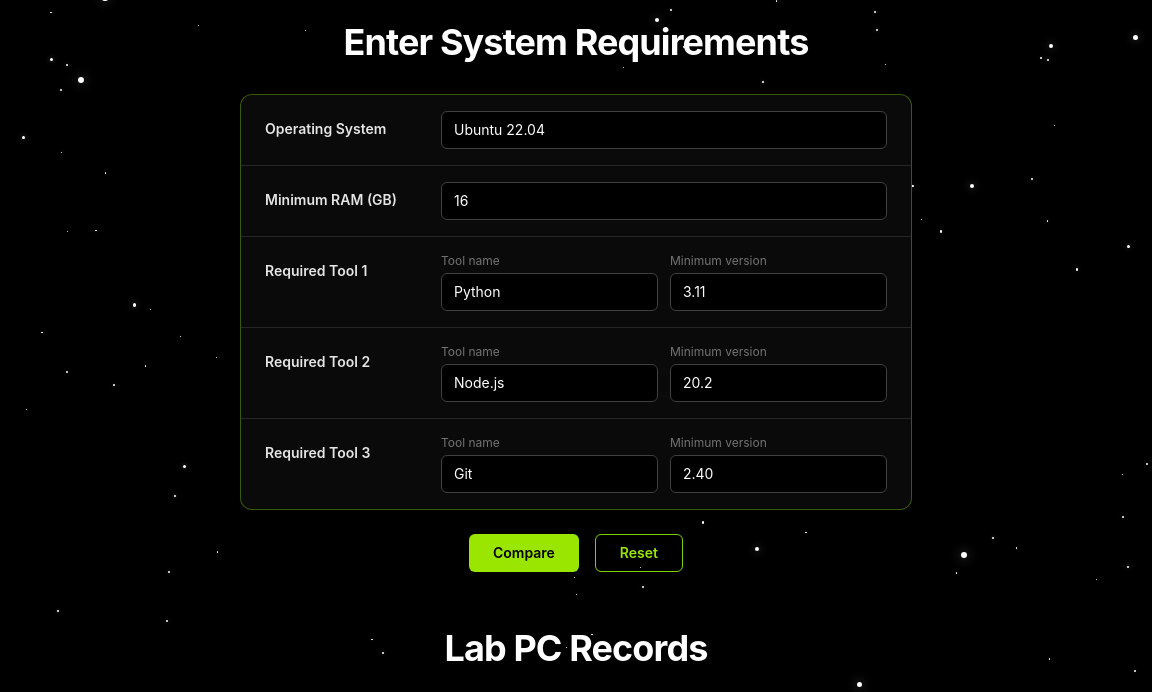
Test: App (Section 3: Comparison & Results) › results stay frozen on further valid edits until Compare is clicked again
The width and height of the screenshot is (1152, 692).
Click the button "Compare" at (524, 553), box [469,534,579,572]
(page scrolled)
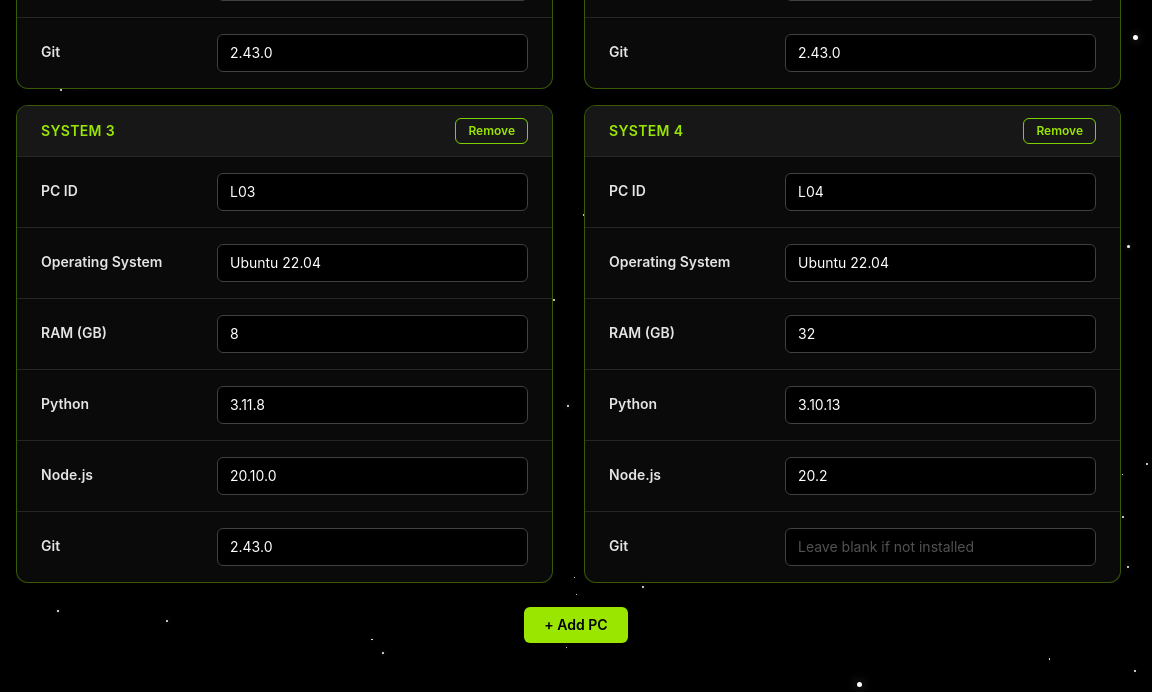
Replace the text in the 1st field labelled "RAM (GB)" with "16" at (372, 334), box [217,315,528,353]
(page scrolled)
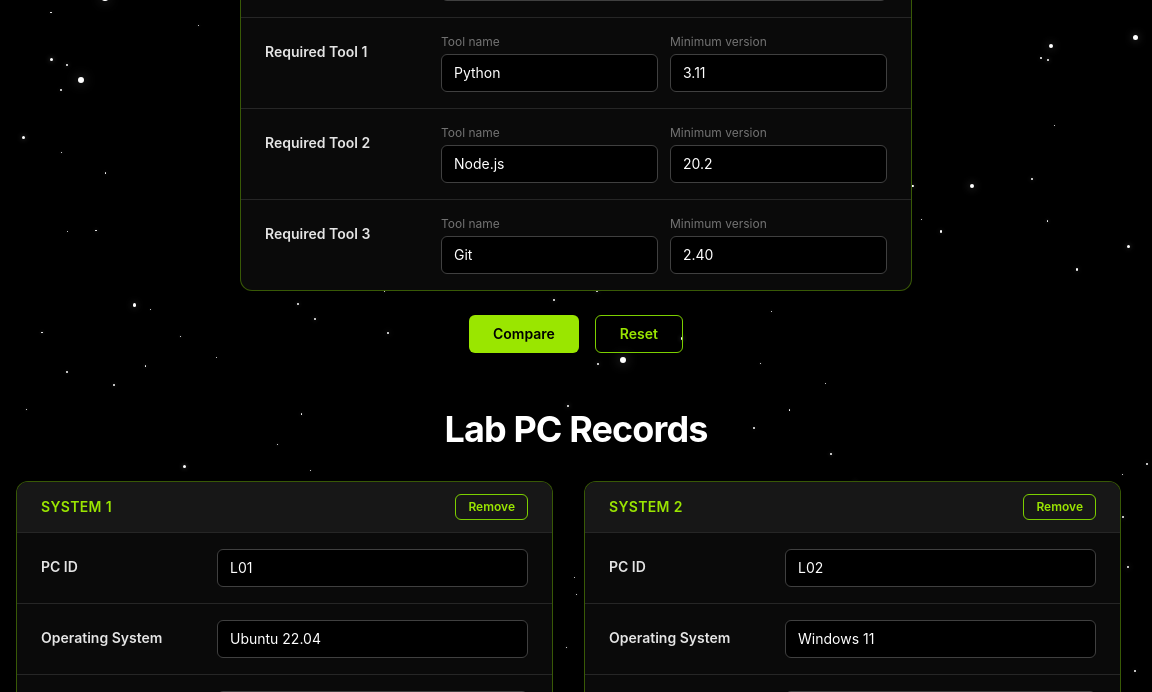
Click the button "Compare" at (524, 334), box [469,315,579,353]
(page scrolled)
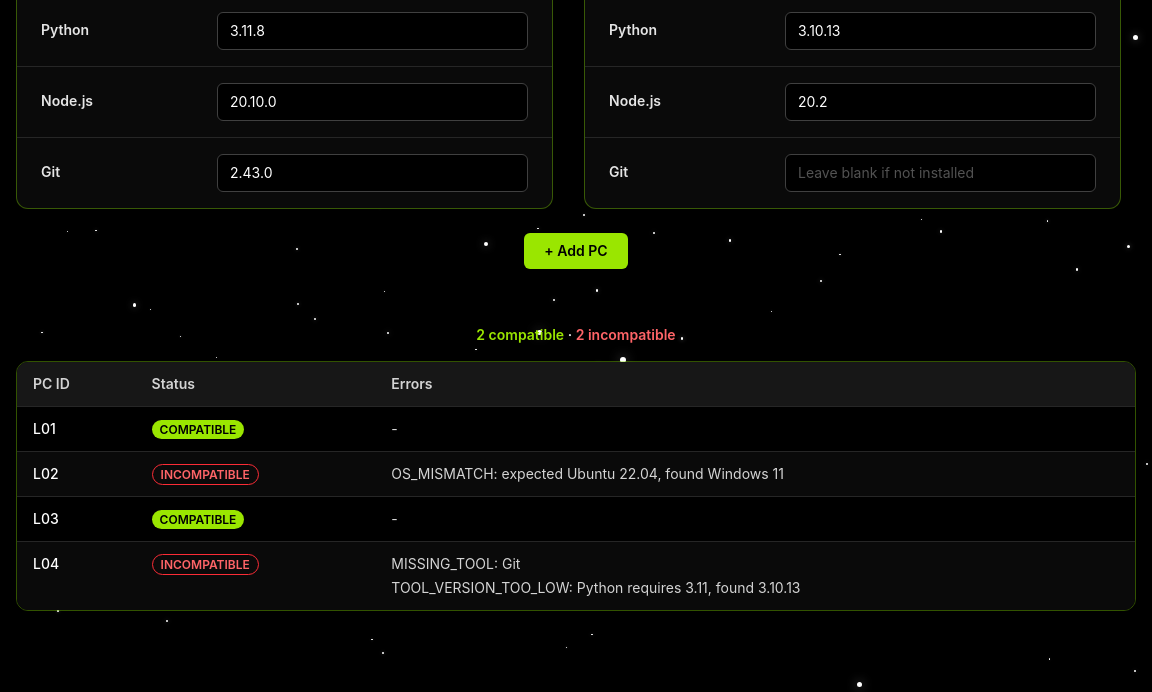
Expected: the text "2 compatible" is shown, [476,326,564,343]
Expected: the text "2 incompatible" is shown, [576,326,676,343]
